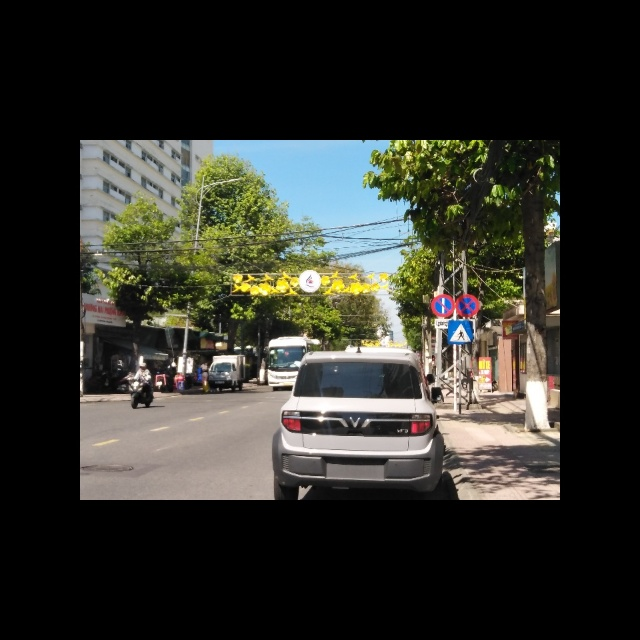Cấm dừng xe và đỗ xe: (455, 294, 480, 318)
Cấm đỗ xe ngày lẻ: (430, 294, 455, 318)
Đường dành cho người đi bộ: (447, 319, 473, 345)
